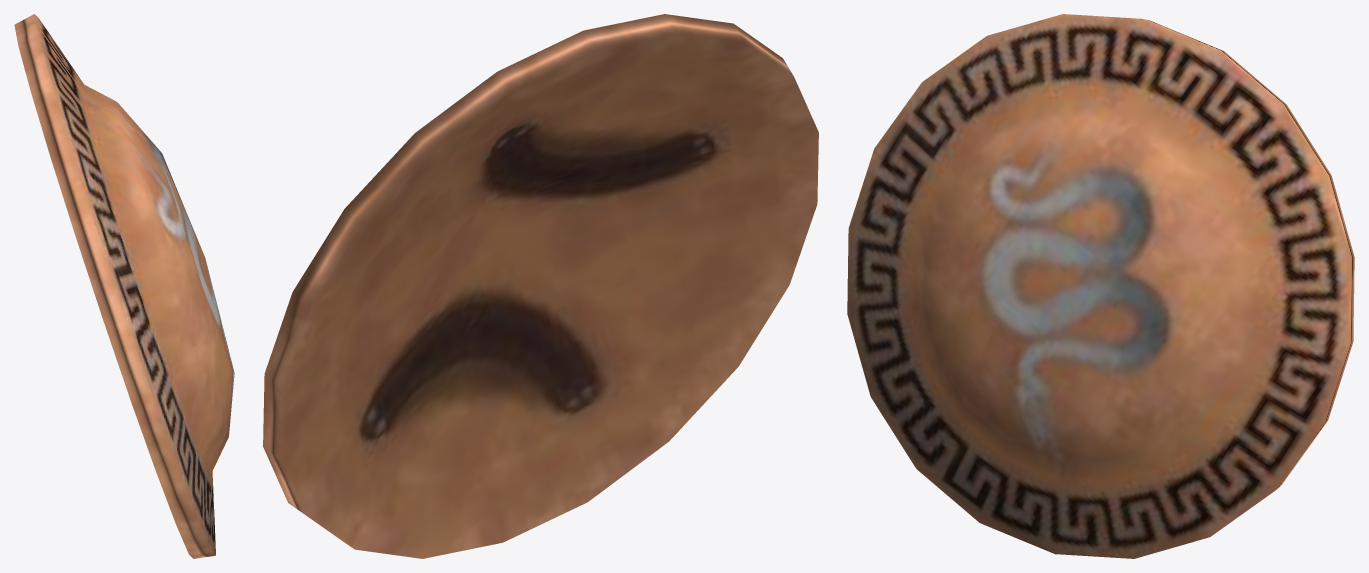
File: shield-ironshields.glb
3 renders of one model, left to right at view 1: azimuth 30°, elevation 25°; view 2: azimuth 150°, elevation 25°; view 3: azimuth 270°, elevation 25°, orthographic. The views are drawn at different scales.
Size of the model in its own units: 0.2896 by 0.5353 by 0.515.
Materials: 1 (1 with a texture image).
